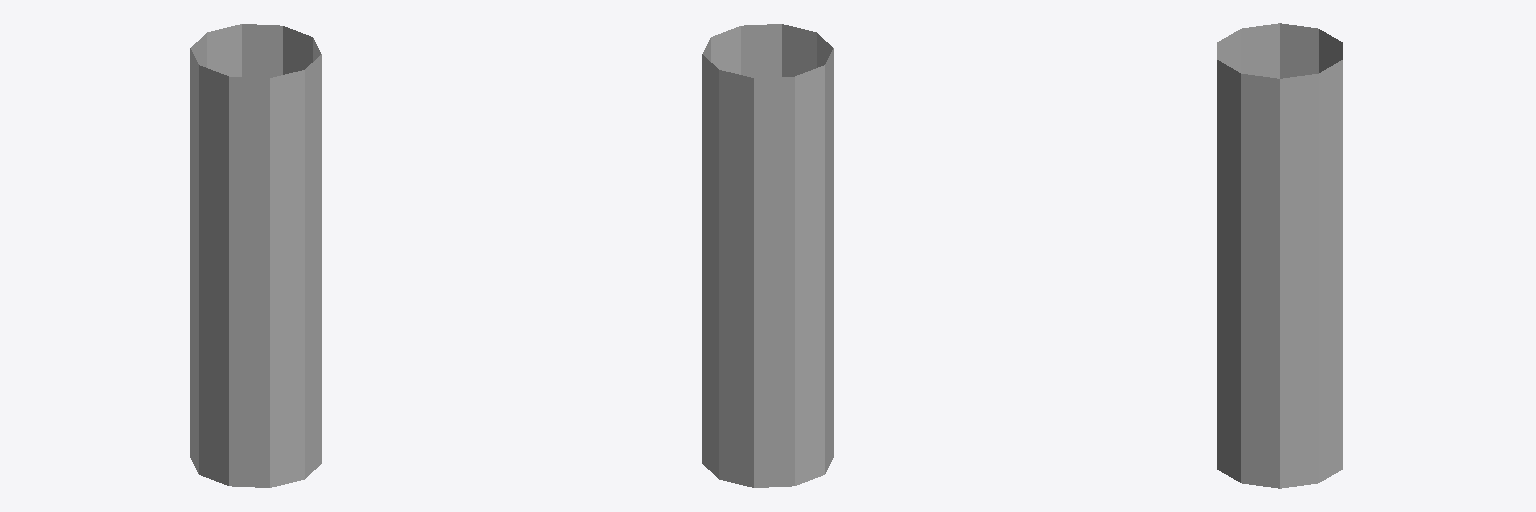
The model's file is treeTrunk.obj.
3 renders of one model, left to right at view 1: azimuth 30°, elevation 25°; view 2: azimuth 150°, elevation 25°; view 3: azimuth 270°, elevation 25°, orthographic.
Parts seen in each view (by area): view 1: default; view 2: default; view 3: default.
Boxes of the visible parts, x1,y1,x2,y2 form: default: [190, 24, 321, 487]; default: [702, 24, 833, 487]; default: [1217, 23, 1342, 488].
Bounding box in the file's own units: 0.6 × 2.06 × 0.5706.